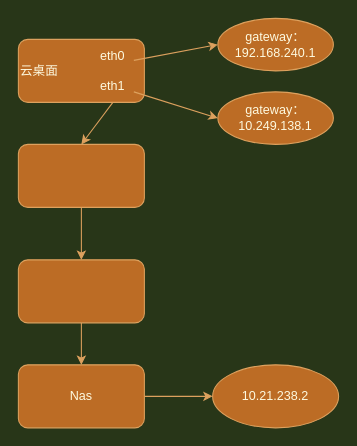
This 357x446 diagram has some shape labels left out. Here are the shapes that lost their labels. From the top down, the centre of each, then its label:
At (80,175): "网关".
At (80,291): "防火墙".
